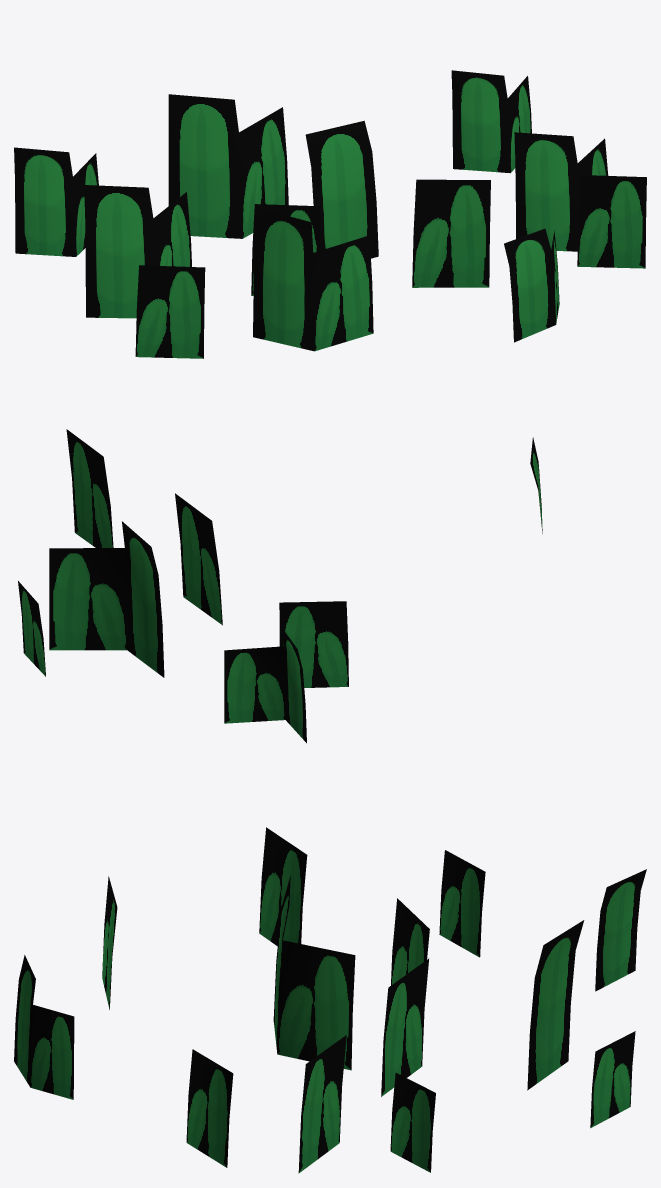
File: grass_1.gltf
3 views of the same model, one above another, from view 1: azimuth 30°, elevation 25°; view 2: azimuth 150°, elevation 25°; view 3: azimuth 270°, elevation 25° (orthographic). The views are drawn at different scales.
Parts seen in each view (by area): view 1: Grass1Mesh; view 2: Grass1Mesh; view 3: Grass1Mesh.
Boxes of the visible parts, x1=… form: Grass1Mesh: x1=14, y1=70, x2=646, y2=358; Grass1Mesh: x1=18, y1=429, x2=542, y2=743; Grass1Mesh: x1=14, y1=827, x2=646, y2=1173.
Size of the model in its own units: 1.54 by 0.3904 by 1.51.
1 material, 1 textured.
